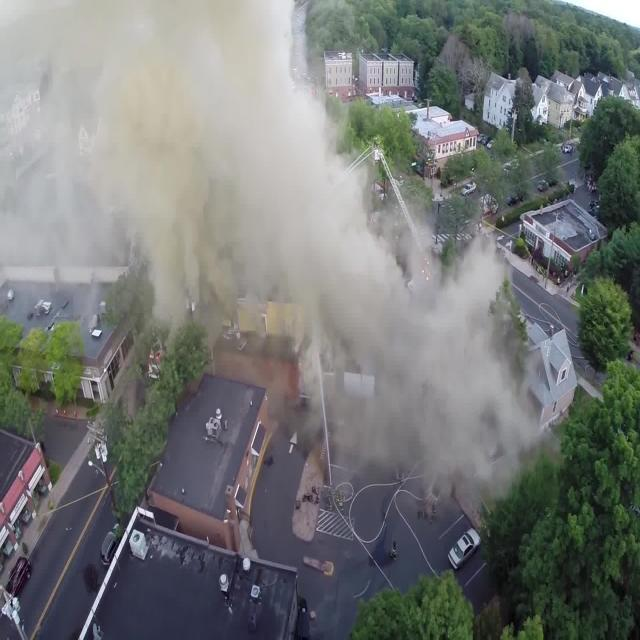Smoke: (62, 14, 286, 253), (389, 290, 498, 470), (294, 238, 379, 364)
